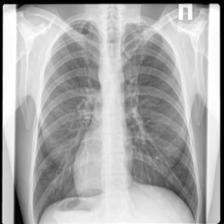tuberculosis: (30, 13, 202, 224)
